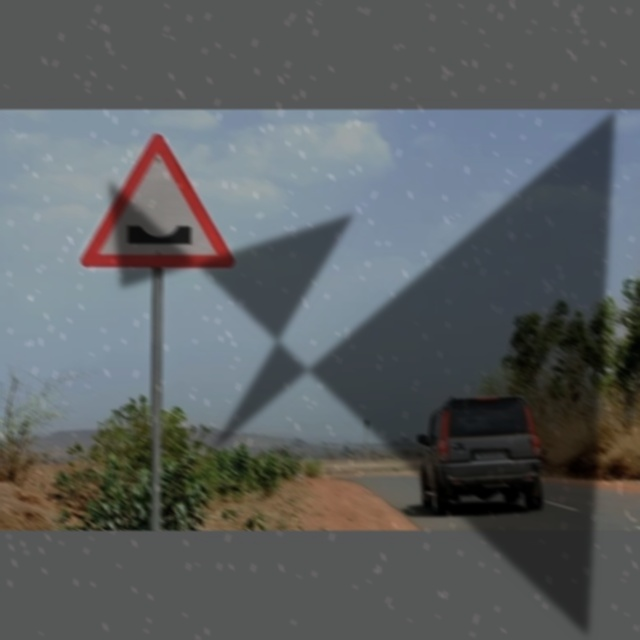Dangerous_Dip: (79, 132, 234, 269)
